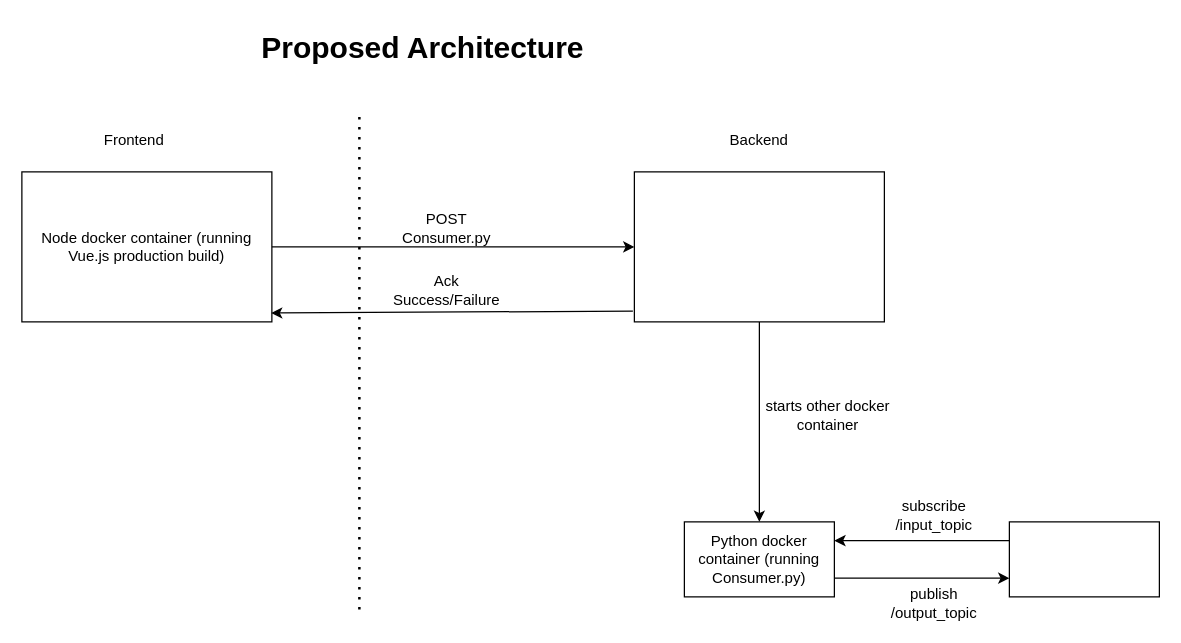
Image size: 1181x643. Some labels were removed from this diagram. Here are the shapes that lost their labels. From the top down, the centre of each, then its label:
At (x=758, y=246): "Flask docker server (privileged) saving contents as Consumer.py".
At (x=1083, y=559): "Redpanda".
